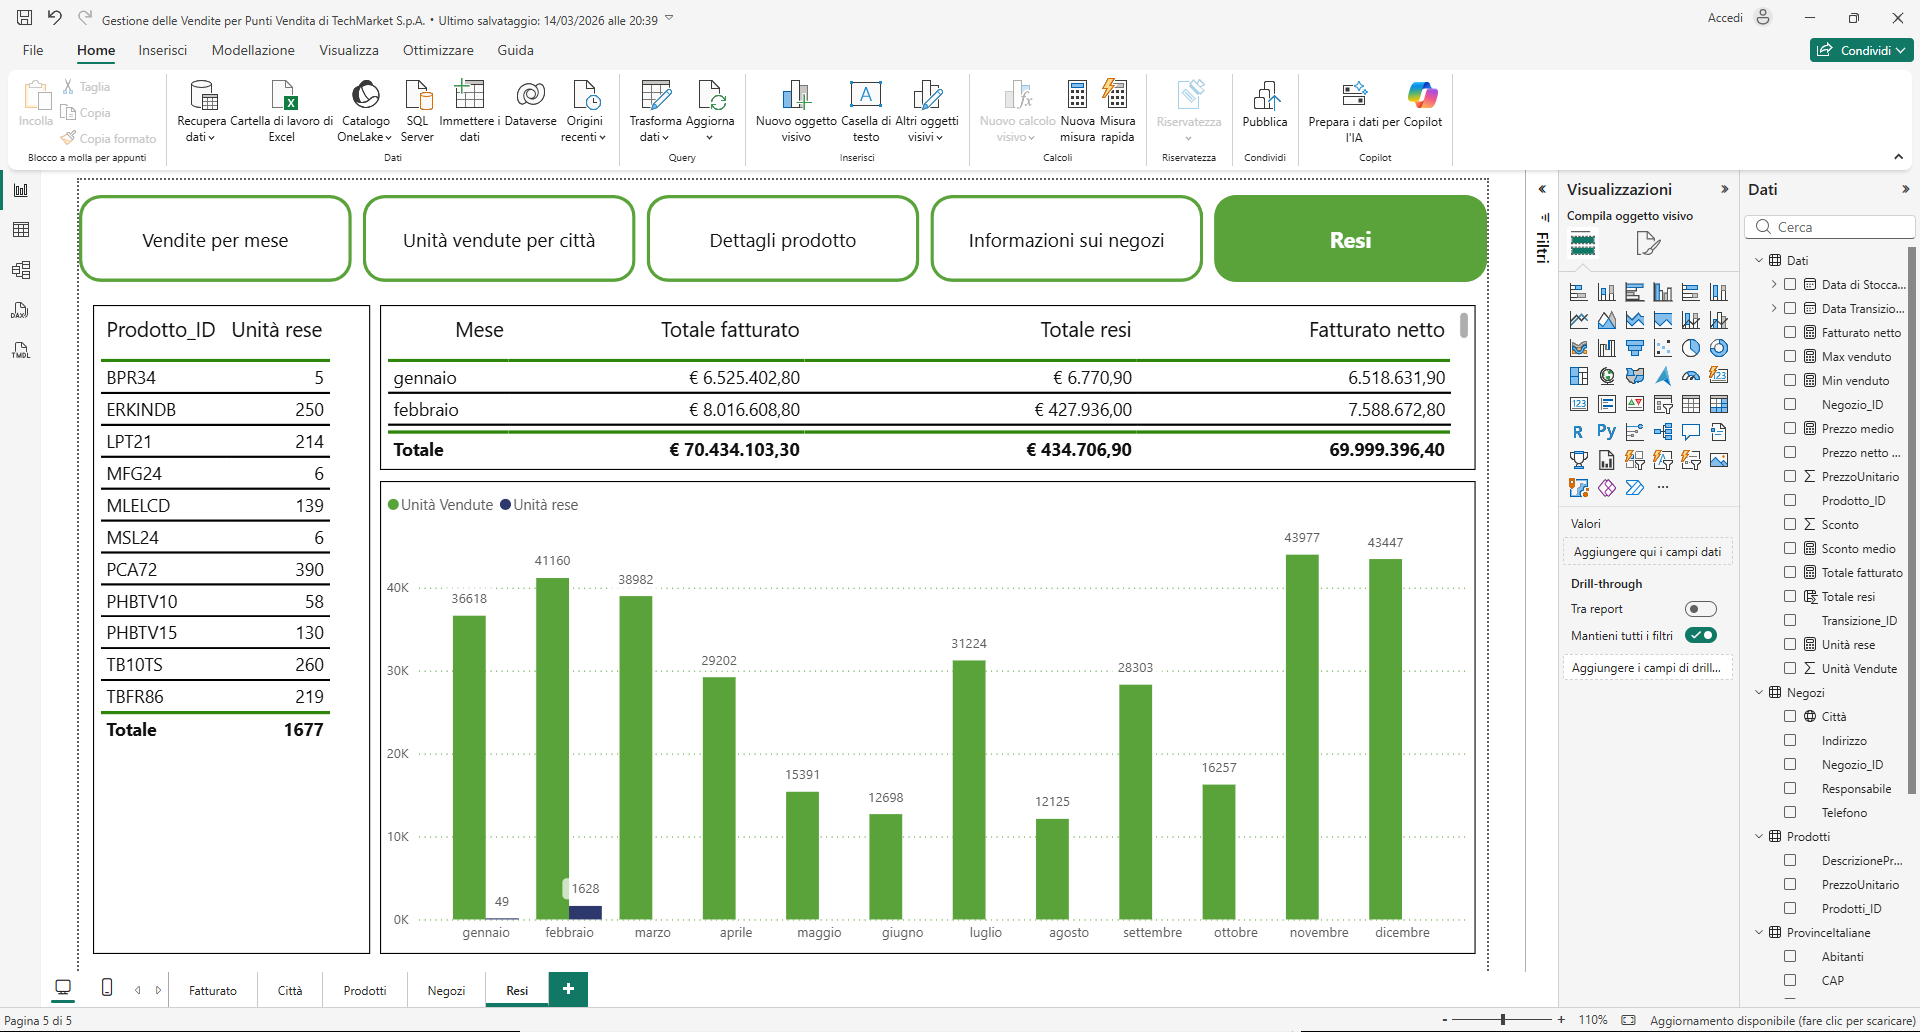

The dashboard page shown, as its layout file describes it:
{"tool":"powerbi","page":{"name":"Resi","canvas":[1280,720],"ordinal":4},"visuals":[{"type":"lineClusteredColumnComboChart","fields":{"Category":["Dati.Data Transizione.Variazione.Gerarchia data.Mese"],"Y":["Sum(Dati.Unità Vendute)","Dati.Unità rese"]},"box":[274.1,274.1,996.2,429.9],"z":500},{"type":"tableEx","fields":{"Values":["Dati.Prodotto_ID","Dati.Unità rese"]},"box":[12.5,114.1,251.8,589.9],"z":1000},{"type":"tableEx","fields":{"Values":["Dati.Data Transizione.Variazione.Gerarchia data.Mese","Dati.Totale fatturato","Sum(Dati.Totale resi)","Dati.Fatturato netto"]},"box":[274.1,114.1,996.2,150.3],"z":2000},{"type":"bookmarkNavigator","box":[0,13.9,1280,79.3],"z":3000}]}

Visuals, with their boxes on the page's 1280x720 design canvas (x1, y1, x2, y2). These are canvas units, not pixel positions in the 1920x1032 screenshot, which may show the page scaled, cropped or inside an application window:
lineClusteredColumnComboChart - Dati.Data Transizione.Variazione.Gerarchia data.Mese x Sum(Dati.Unità Vendute): <region>274, 274, 1270, 704</region>
tableEx - Dati.Prodotto_ID x Dati.Unità rese: <region>12, 114, 264, 704</region>
tableEx - Dati.Data Transizione.Variazione.Gerarchia data.Mese x Dati.Totale fatturato: <region>274, 114, 1270, 264</region>
bookmarkNavigator: <region>0, 14, 1280, 93</region>
